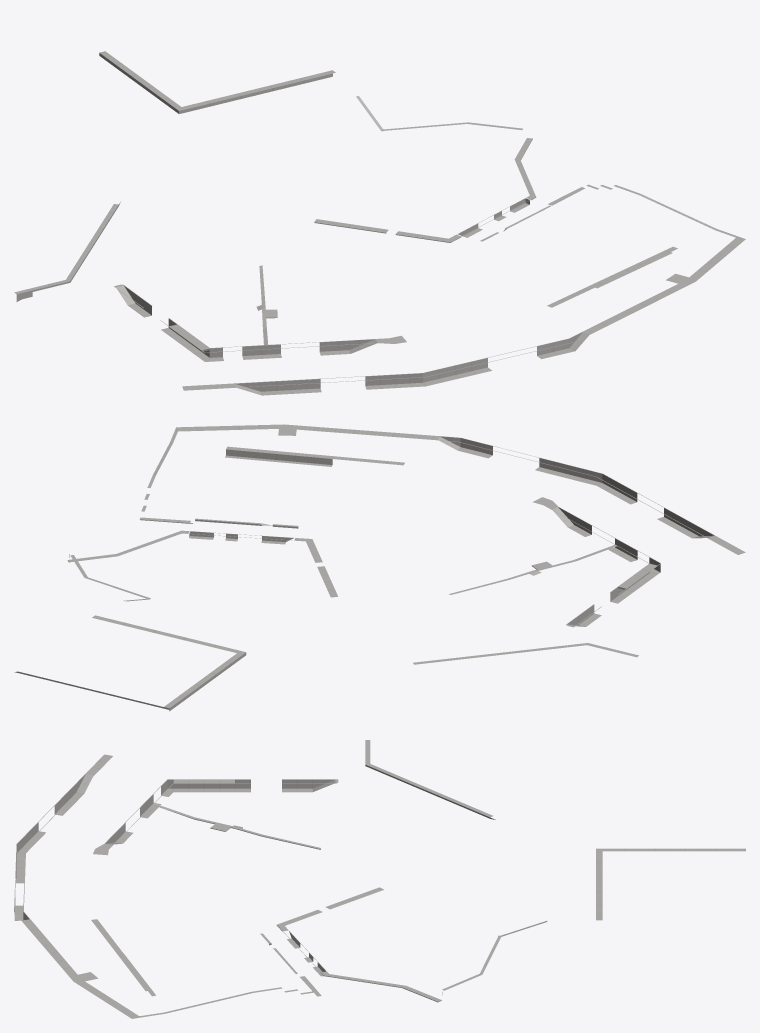
File: kd_stage_135fe0_5_34.glb
3 renders of one model, top to bottom at view 1: azimuth 30°, elevation 25°; view 2: azimuth 150°, elevation 25°; view 3: azimuth 270°, elevation 25°, orthographic. The views are drawn at different scales.
Parts seen in each view (by area): view 1: kd_stage_135fe0_5_34; view 2: kd_stage_135fe0_5_34; view 3: kd_stage_135fe0_5_34.
Boxes of the visible parts, <box> form: kd_stage_135fe0_5_34: <box>14,51,745,395</box>; kd_stage_135fe0_5_34: <box>14,424,745,711</box>; kd_stage_135fe0_5_34: <box>14,740,745,1018</box>.
Size of the model in its own units: 20 by 1.15 by 22.3.
1 material, 1 textured.
